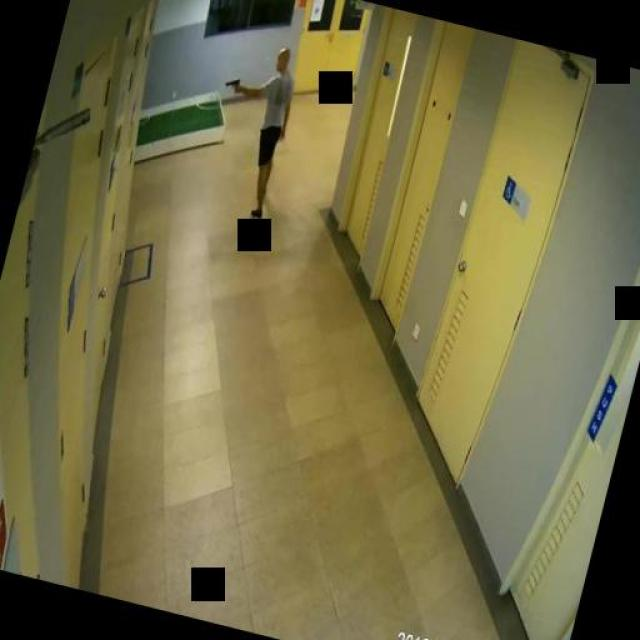gun: (222, 74, 242, 92)
